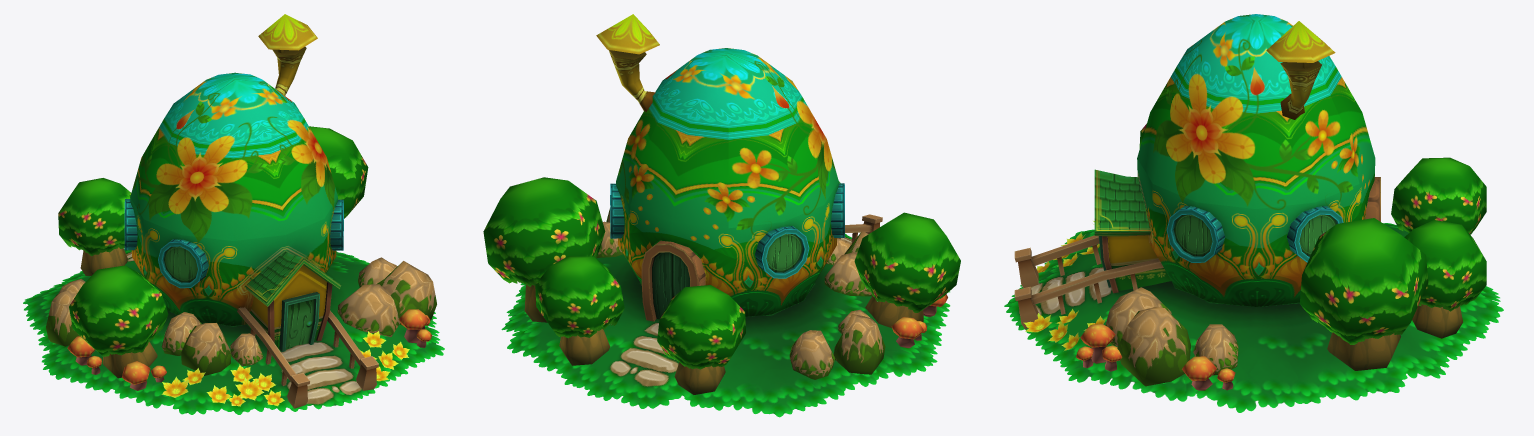
The model's file is Egg_House_04.FBX.
The picture shows the model from 3 angles, left to right: view 1: azimuth 30°, elevation 25°; view 2: azimuth 150°, elevation 25°; view 3: azimuth 270°, elevation 25°; orthographic projection. The views are drawn at different scales.
Parts seen in each view (by area): view 1: Egg_House_04; view 2: Egg_House_04; view 3: Egg_House_04.
Boxes of the visible parts, x1,y1,x2,y2 form: Egg_House_04: (23,14,444,414); Egg_House_04: (483,14,960,417); Egg_House_04: (1004,14,1503,412).
Bounding box in the file's own units: 4.67 × 3.21 × 4.67.
